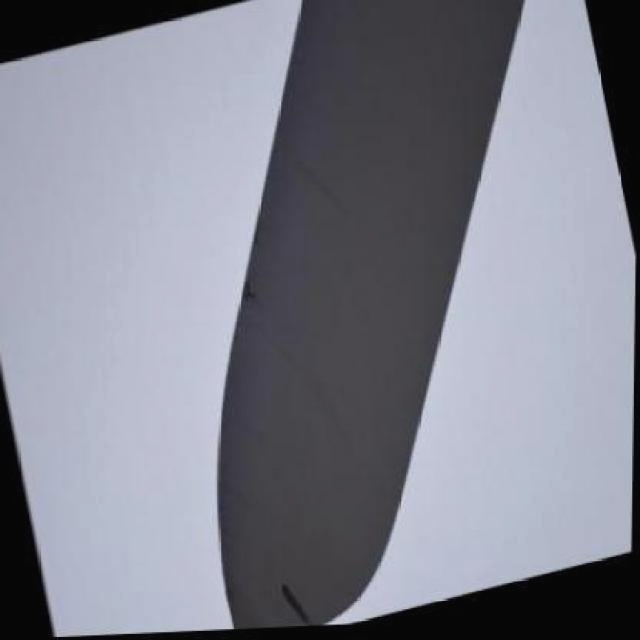Burn Mark: (279, 578, 316, 628)
Coating_defects: (234, 271, 258, 311)
